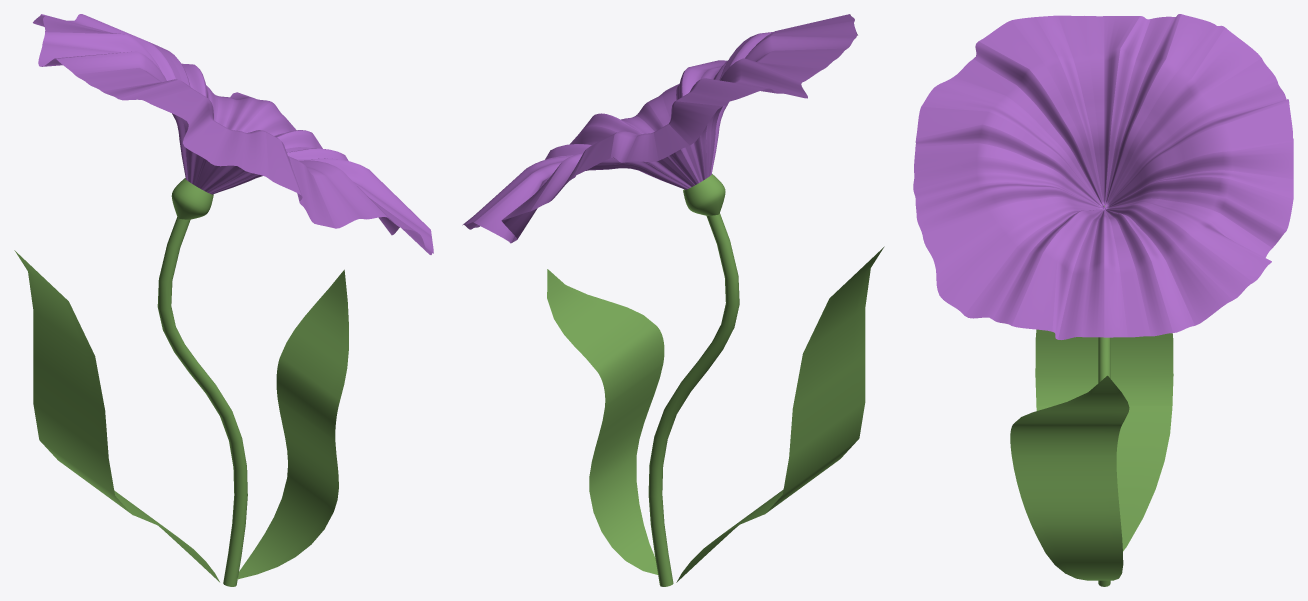
File: flower.glb
The picture shows the model from 3 angles, left to right: view 1: azimuth 30°, elevation 25°; view 2: azimuth 150°, elevation 25°; view 3: azimuth 270°, elevation 25°; orthographic projection. The views are drawn at different scales.
Visible parts, largest first — view 1: flower_flower leaves_0, flower_flower bloom_0, flower_flower stem_0; view 2: flower_flower leaves_0, flower_flower bloom_0, flower_flower stem_0; view 3: flower_flower bloom_0, flower_flower leaves_0, flower_flower stem_0.
Boxes of the visible parts, x1=… form: flower_flower leaves_0: x1=14, y1=250, x2=348, y2=582; flower_flower bloom_0: x1=33, y1=14, x2=433, y2=254; flower_flower stem_0: x1=157, y1=178, x2=247, y2=586; flower_flower leaves_0: x1=547, y1=246, x2=884, y2=582; flower_flower bloom_0: x1=462, y1=14, x2=857, y2=243; flower_flower stem_0: x1=648, y1=174, x2=739, y2=586; flower_flower bloom_0: x1=913, y1=14, x2=1293, y2=339; flower_flower leaves_0: x1=1010, y1=329, x2=1173, y2=580; flower_flower stem_0: x1=1098, y1=205, x2=1110, y2=586.
Size of the model in its own units: 0.6189 by 0.9011 by 0.613.
